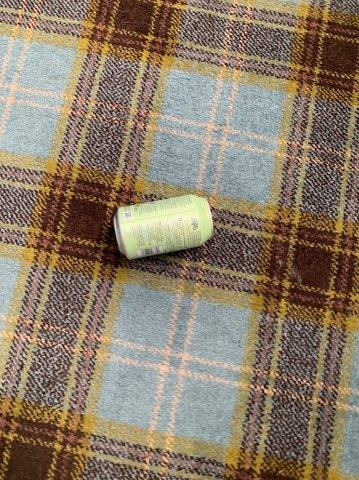kaleng: (115, 196, 212, 259)
